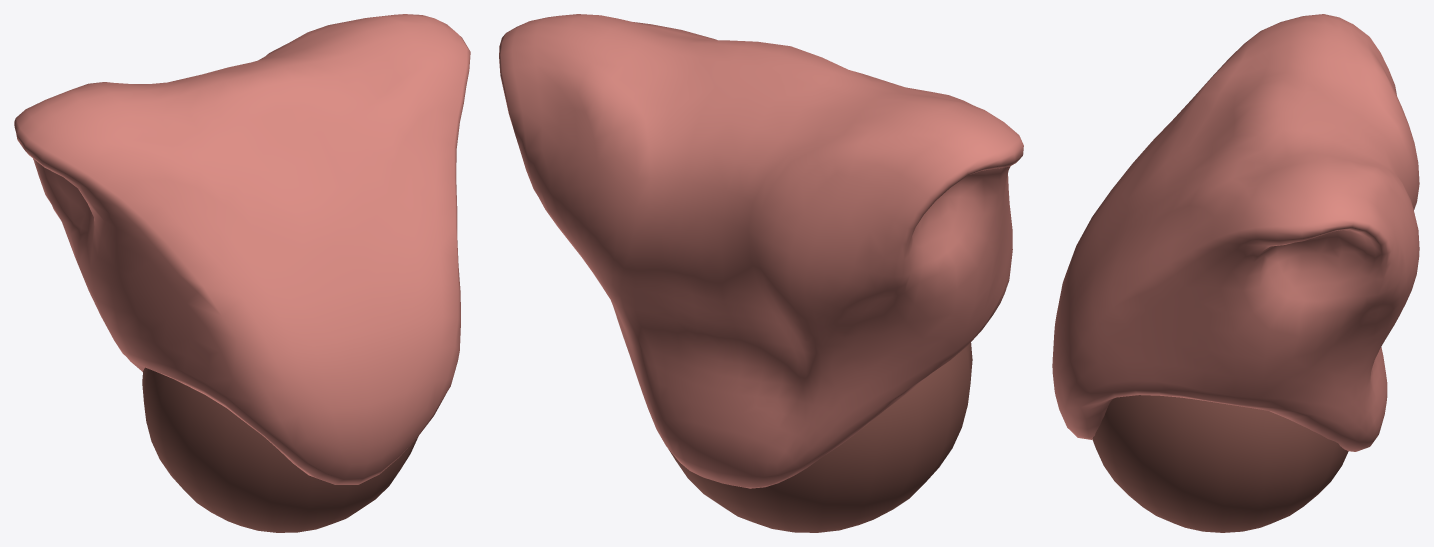
File: xbotTorso.fbx
3 views of the same model, side by side, from view 1: azimuth 30°, elevation 25°; view 2: azimuth 150°, elevation 25°; view 3: azimuth 270°, elevation 25° (orthographic). The views are drawn at different scales.
Visible parts, largest first — view 1: Beta_Surface, Beta_Joints; view 2: Beta_Surface, Beta_Joints; view 3: Beta_Surface, Beta_Joints.
Part boxes in pixels (left/top/right/bottom): Beta_Surface: left=14, top=14, right=470, bottom=484; Beta_Joints: left=142, top=367, right=418, bottom=532; Beta_Surface: left=499, top=14, right=1023, bottom=488; Beta_Joints: left=668, top=342, right=972, bottom=532; Beta_Surface: left=1052, top=14, right=1419, bottom=451; Beta_Joints: left=1092, top=395, right=1348, bottom=532.
Size of the model in its own units: 38.57 by 35.88 by 28.37.
